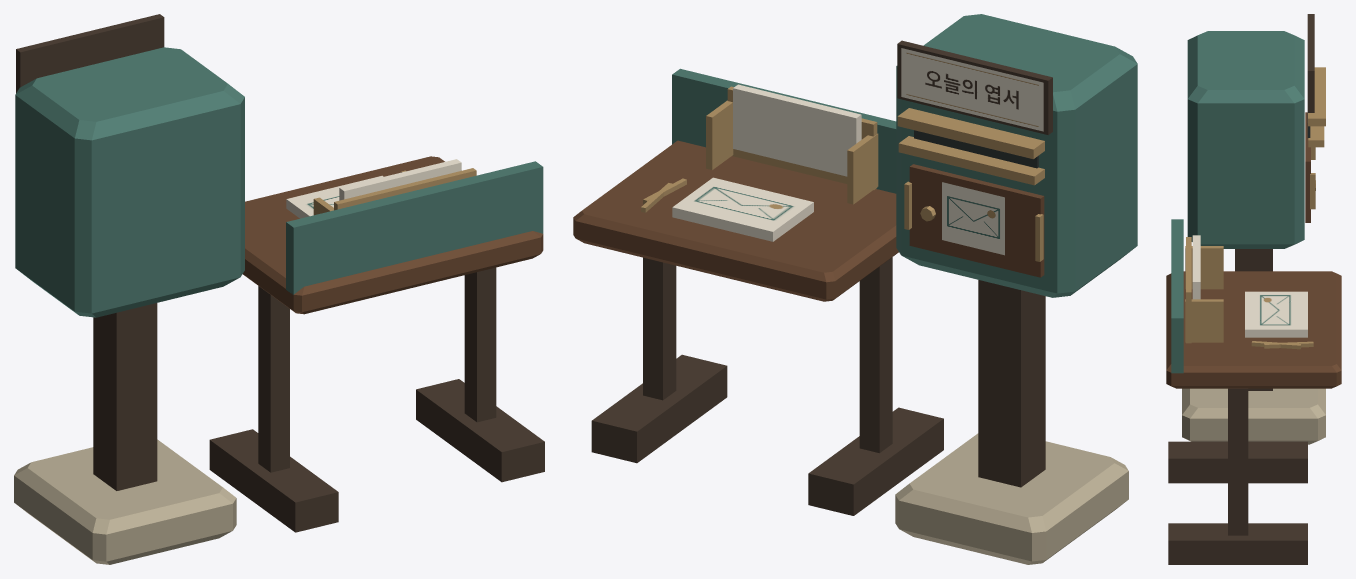
File: F06_Postcard_Corner.fbx
3 renders of one model, left to right at view 1: azimuth 30°, elevation 25°; view 2: azimuth 150°, elevation 25°; view 3: azimuth 270°, elevation 25°, orthographic. The views are drawn at different scales.
Visible parts, largest first — view 1: Writing_Shelf, Postbox_Body, Postbox_Pedestal, Front_Label, Postcards; view 2: Writing_Shelf, Postbox_Body, Postbox_Pedestal, Postcards, Front_Label, Front_Envelope_Icon; view 3: Writing_Shelf, Postbox_Body, Postbox_Pedestal, Postcards, Front_Label, Pencils.
Boxes of the visible parts, box(x1,y1,x2,y2) form: Writing_Shelf: box(209, 156, 544, 532); Postbox_Body: box(15, 47, 244, 317); Postbox_Pedestal: box(14, 303, 236, 564); Front_Label: box(16, 14, 164, 92); Postcards: box(286, 159, 476, 218); Writing_Shelf: box(573, 68, 943, 515); Postbox_Body: box(896, 14, 1137, 297); Postbox_Pedestal: box(895, 280, 1128, 564); Postcards: box(672, 84, 878, 241); Front_Label: box(897, 40, 1052, 134); Front_Envelope_Icon: box(942, 182, 1004, 255); Writing_Shelf: box(1166, 219, 1341, 564); Postbox_Body: box(1187, 31, 1325, 248); Postbox_Pedestal: box(1182, 249, 1325, 444); Postcards: box(1185, 235, 1307, 343); Front_Label: box(1307, 14, 1314, 112); Pencils: box(1251, 341, 1313, 349).
Size of the model in its own units: 1.88 by 1.85 by 0.78.
8 materials, 1 textured.
